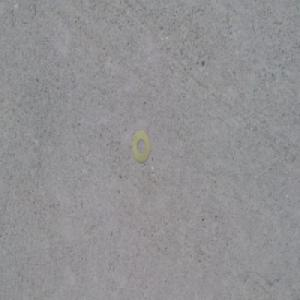Washer: (132, 130, 151, 165)
